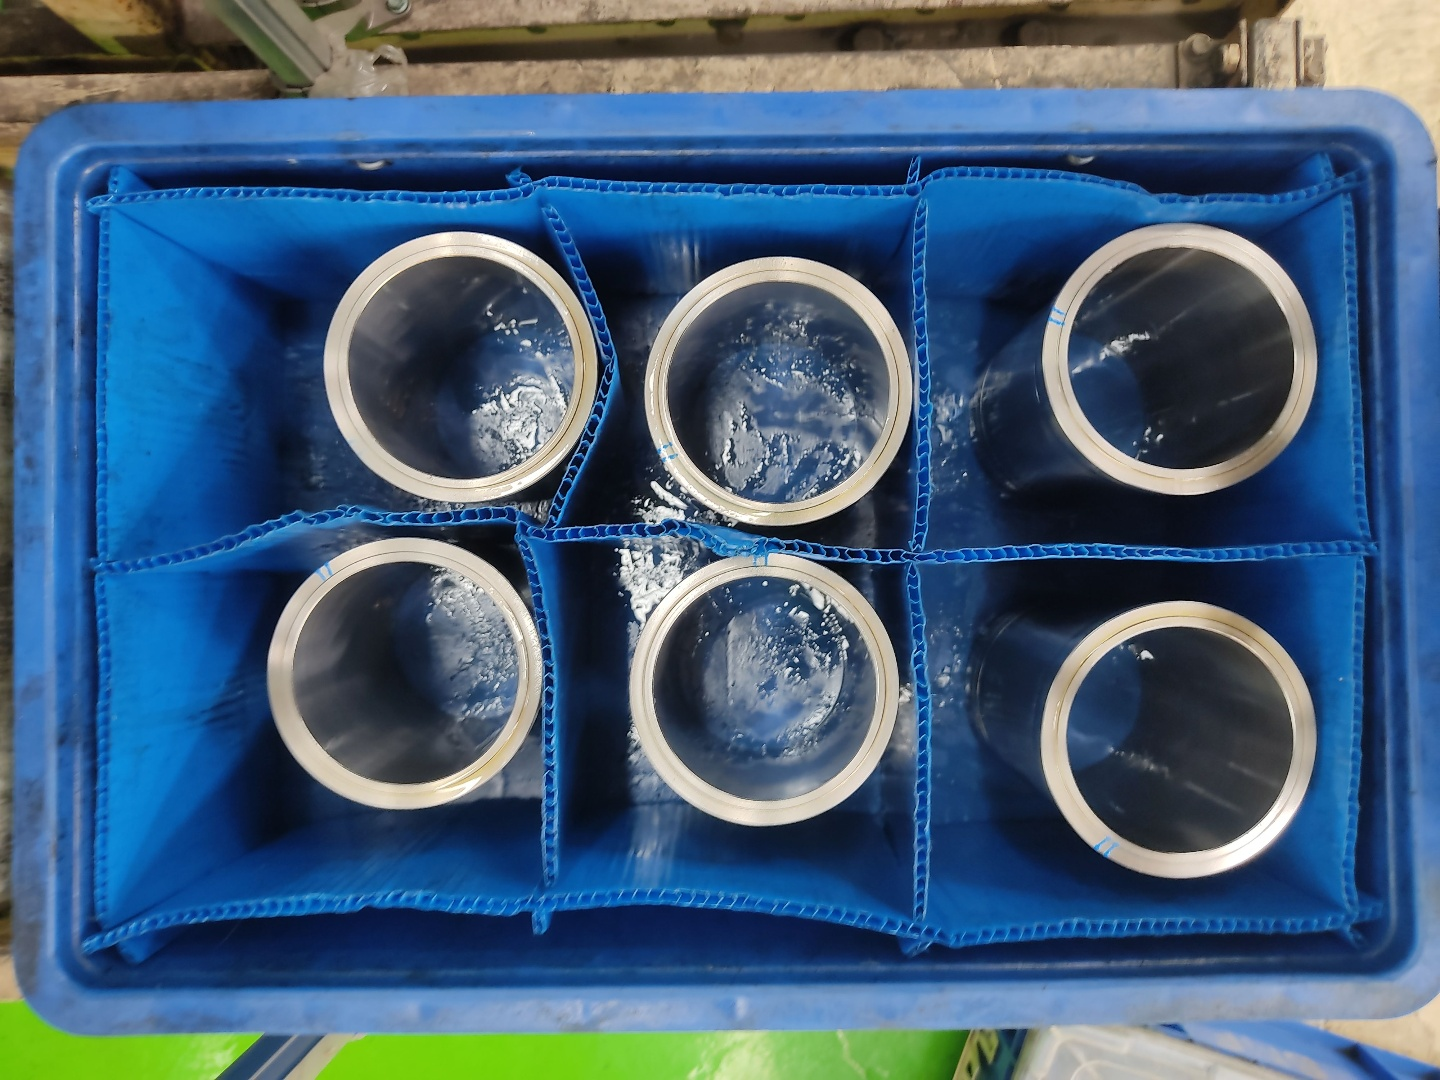cylinder: (1037, 594, 1323, 884), (1039, 217, 1321, 501), (263, 534, 549, 813), (625, 546, 903, 832), (638, 250, 920, 531), (321, 227, 603, 507)
